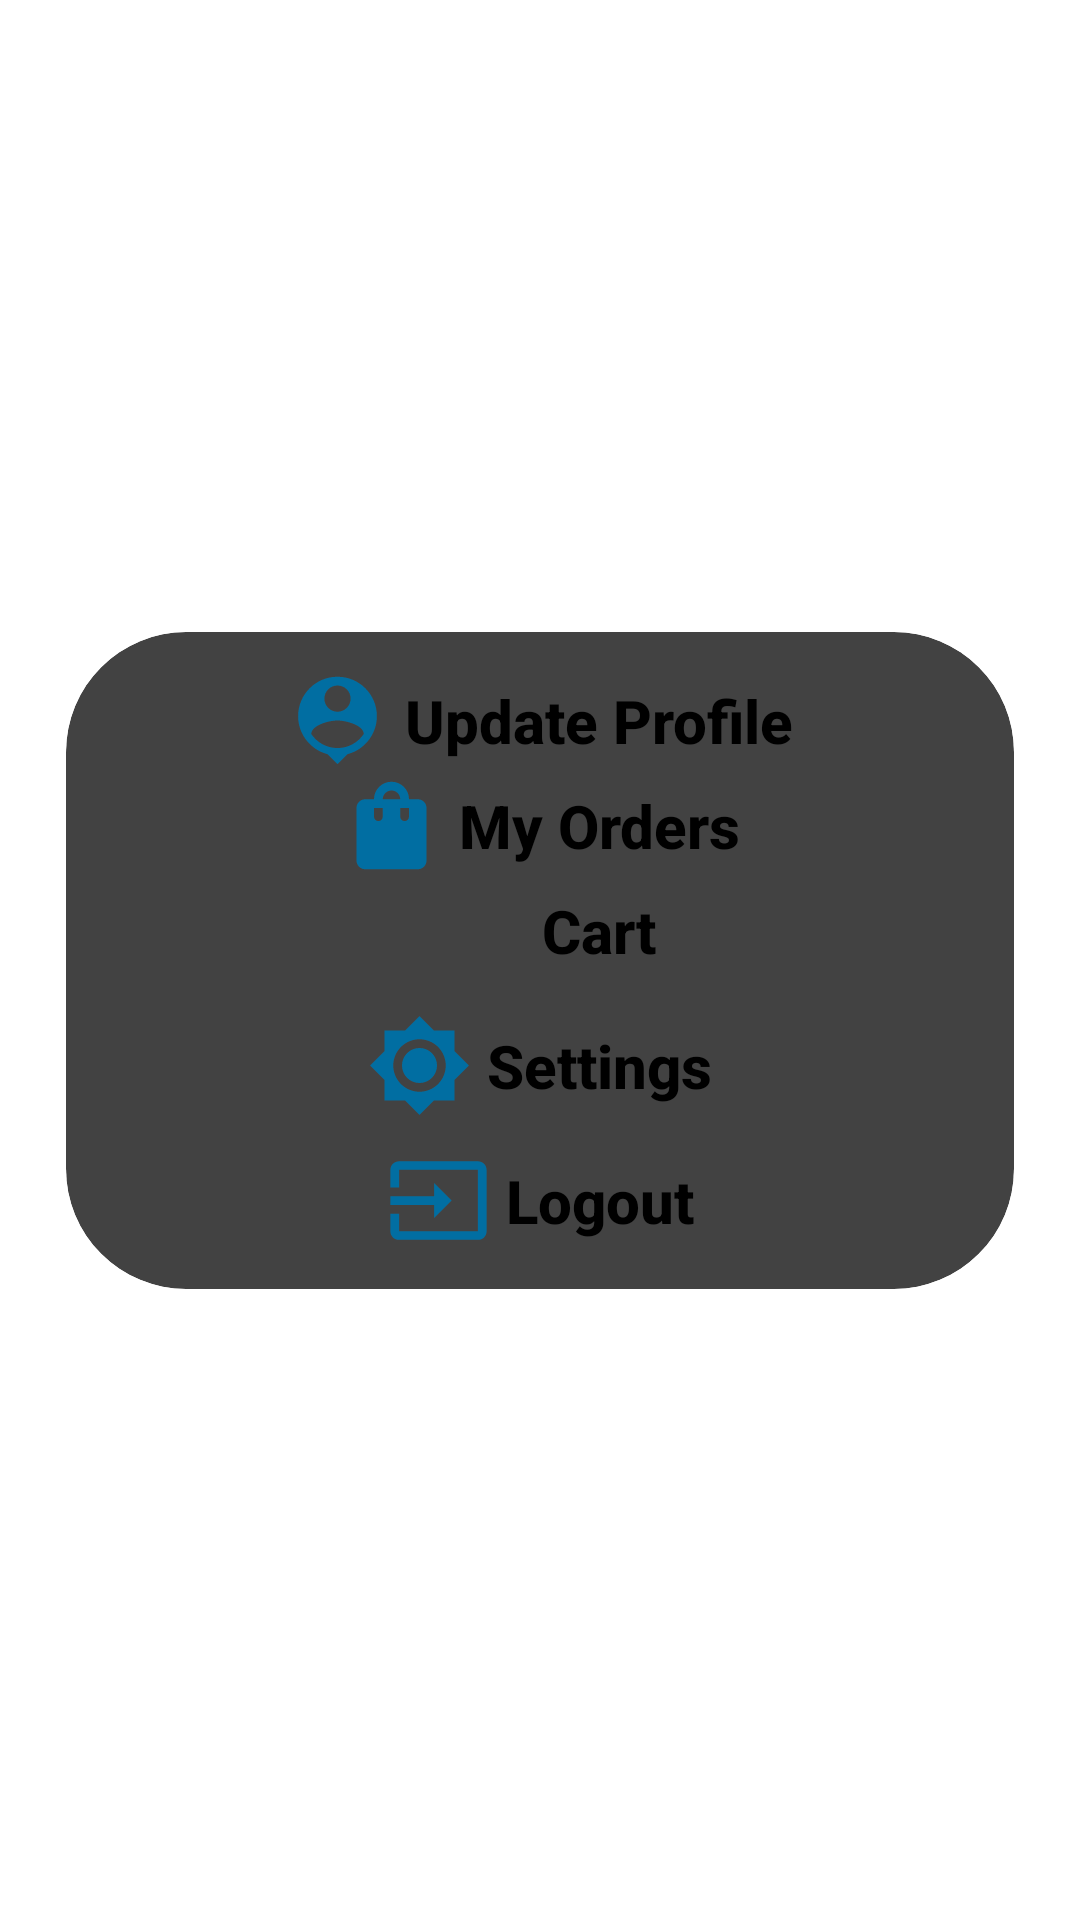

Icons on this 1080*1920 Android screen, each with the point to tap as (x,y):
in out: (438,1200)
person: (337,720)
shop: (391,826)
